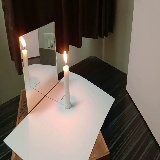fire: (64, 49, 68, 67)
